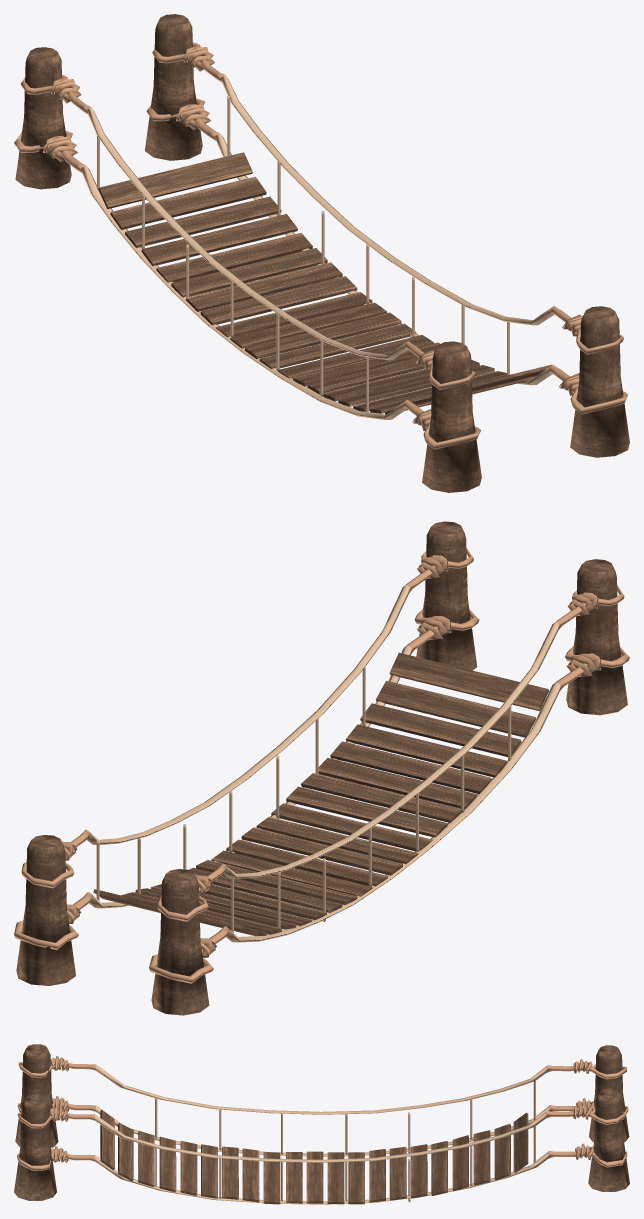
File: RopeBridgeSturdy.fbx
3 renders of one model, top to bottom at view 1: azimuth 30°, elevation 25°; view 2: azimuth 150°, elevation 25°; view 3: azimuth 270°, elevation 25°, orthographic. The views are drawn at different scales.
Visible parts, largest first — view 1: Cube.079; view 2: Cube.079; view 3: Cube.079.
Boxes of the visible parts, left/top/right/bottom form: Cube.079: left=14, top=14, right=629, bottom=492; Cube.079: left=14, top=521, right=629, bottom=1015; Cube.079: left=14, top=1044, right=629, bottom=1204.
Size of the model in its own units: 124 by 89.98 by 464.
Materials: 5 (5 with a texture image).
